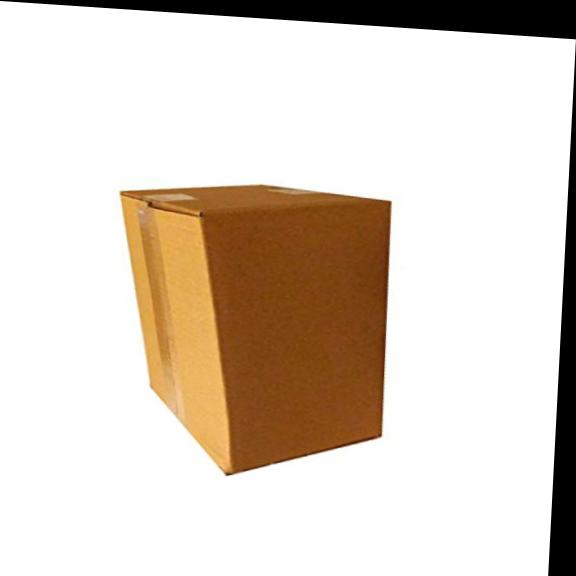Kertas: (121, 185, 389, 473)
